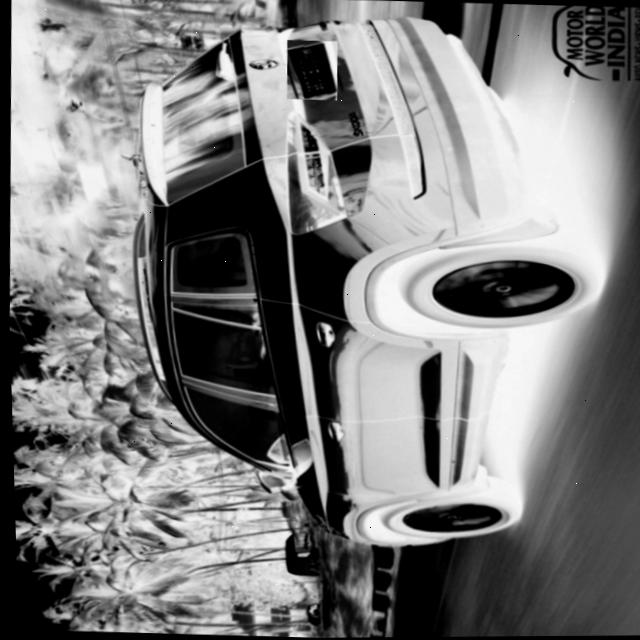Non_registered: (284, 39, 338, 100)
